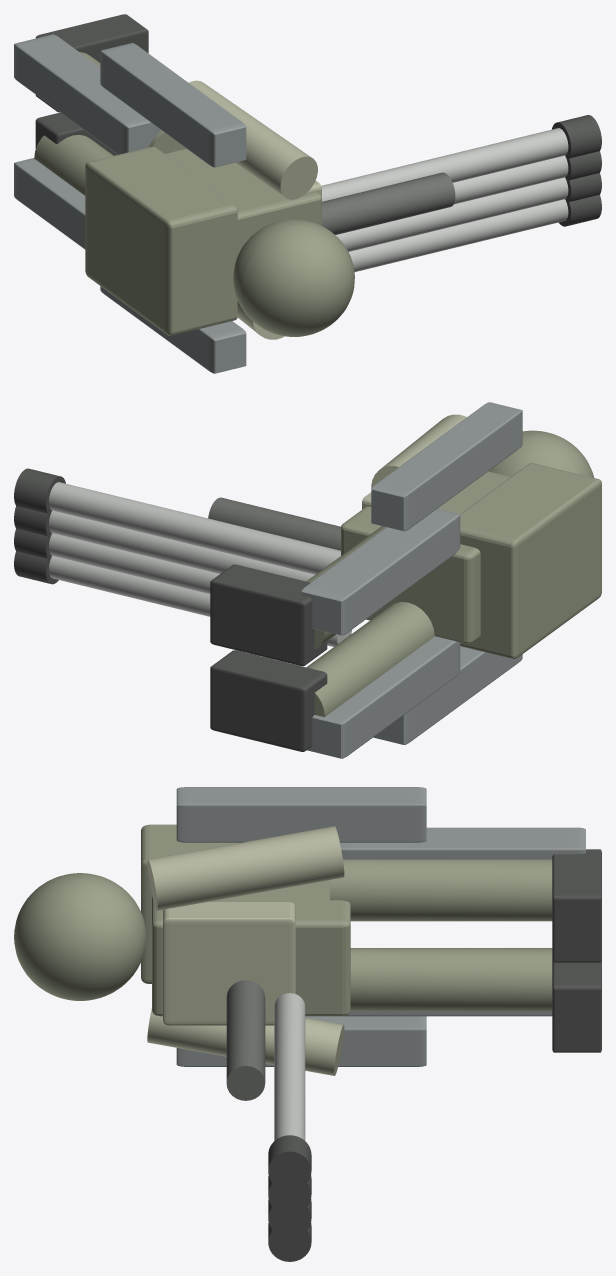
The model's file is v-u09-vanguard-exo-infantry-lod1.glb.
3 renders of one model, top to bottom at view 1: azimuth 30°, elevation 25°; view 2: azimuth 150°, elevation 25°; view 3: azimuth 270°, elevation 25°, orthographic. The views are drawn at different scales.
Visible parts, largest first — view 1: soldier_0_backpack, soldier_0_helmet, exo_servo_arm_1, exo_servo_leg_1, exo_rotary_barrel_3, soldier_0_torso, exo_rotary_barrel_1, exo_rotary_barrel_0, soldier_0_rifle, soldier_0_arm_1, exo_servo_leg_-1, exo_servo_arm_-1 (+9 smaller); view 2: soldier_0_backpack, exo_servo_leg_1, exo_servo_arm_1, soldier_0_boot_-1, exo_rotary_barrel_3, soldier_0_boot_1, exo_servo_leg_-1, soldier_0_torso, soldier_0_leg_-1, exo_rotary_barrel_2, exo_servo_arm_-1, exo_rotary_barrel_0 (+9 smaller); view 3: soldier_0_chest, soldier_0_helmet, soldier_0_leg_1, exo_servo_arm_1, soldier_0_leg_-1, soldier_0_arm_1, soldier_0_torso, exo_servo_leg_1, soldier_0_boot_1, exo_servo_arm_-1, soldier_0_boot_-1, exo_rotary_barrel_3 (+8 smaller).
Boxes of the visible parts, left/top/right/bottom form: soldier_0_backpack: left=85, top=146, right=237, bottom=335; soldier_0_helmet: left=233, top=219, right=354, bottom=336; exo_servo_arm_1: left=100, top=43, right=246, bottom=167; exo_servo_leg_1: left=14, top=34, right=161, bottom=154; exo_rotary_barrel_3: left=321, top=128, right=568, bottom=201; soldier_0_torso: left=165, top=148, right=321, bottom=300; exo_rotary_barrel_1: left=335, top=177, right=568, bottom=251; exo_rotary_barrel_0: left=348, top=199, right=568, bottom=271; soldier_0_rifle: left=322, top=172, right=455, bottom=234; soldier_0_arm_1: left=189, top=80, right=317, bottom=199; exo_servo_leg_-1: left=14, top=158, right=85, bottom=249; exo_servo_arm_-1: left=100, top=286, right=246, bottom=373; soldier_0_backpack: left=460, top=463, right=601, bottom=659; exo_servo_leg_1: left=301, top=508, right=460, bottom=635; exo_servo_arm_1: left=371, top=402, right=522, bottom=531; soldier_0_boot_-1: left=210, top=650, right=327, bottom=751; exo_rotary_barrel_3: left=49, top=482, right=340, bottom=574; soldier_0_boot_1: left=210, top=564, right=327, bottom=666; exo_servo_leg_-1: left=307, top=636, right=460, bottom=758; soldier_0_torso: left=341, top=471, right=510, bottom=643; soldier_0_leg_-1: left=306, top=602, right=434, bottom=717; exo_rotary_barrel_2: left=49, top=510, right=314, bottom=581; exo_servo_arm_-1: left=373, top=646, right=522, bottom=744; exo_rotary_barrel_0: left=49, top=556, right=351, bottom=646; soldier_0_chest: left=163, top=902, right=295, bottom=1025; soldier_0_helmet: left=14, top=873, right=146, bottom=1000; soldier_0_leg_1: left=330, top=859, right=552, bottom=921; exo_servo_arm_1: left=176, top=787, right=426, bottom=842; soldier_0_leg_-1: left=350, top=948, right=552, bottom=1011; soldier_0_arm_1: left=147, top=826, right=344, bottom=910; soldier_0_torso: left=152, top=880, right=350, bottom=1016; exo_servo_leg_1: left=340, top=827, right=585, bottom=859; soldier_0_boot_1: left=552, top=849, right=601, bottom=962; exo_servo_arm_-1: left=176, top=1016, right=426, bottom=1066; soldier_0_boot_-1: left=552, top=960, right=601, bottom=1052; exo_rotary_barrel_3: left=274, top=993, right=305, bottom=1140.
Size of what is drawn, in the model's own units: 2.59 by 1.22 by 2.47.
